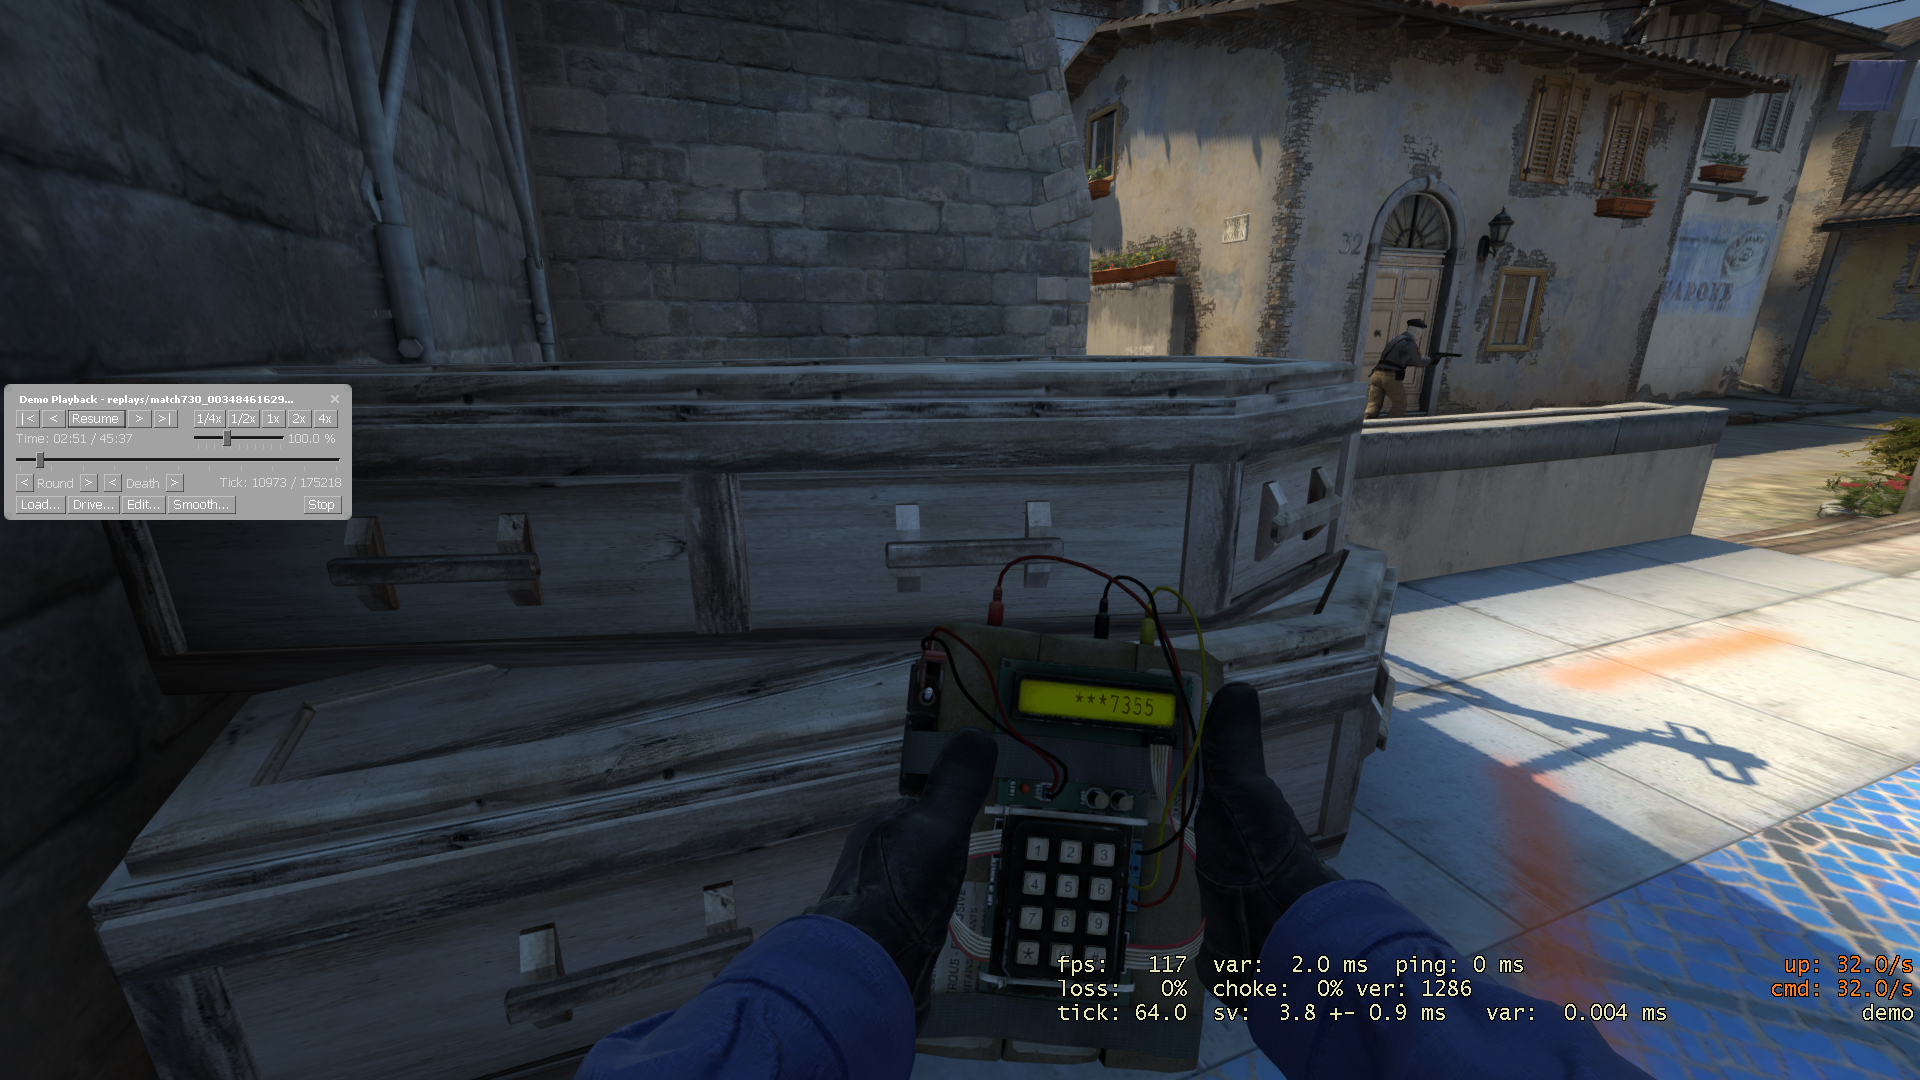t: (1362, 316, 1440, 421)
